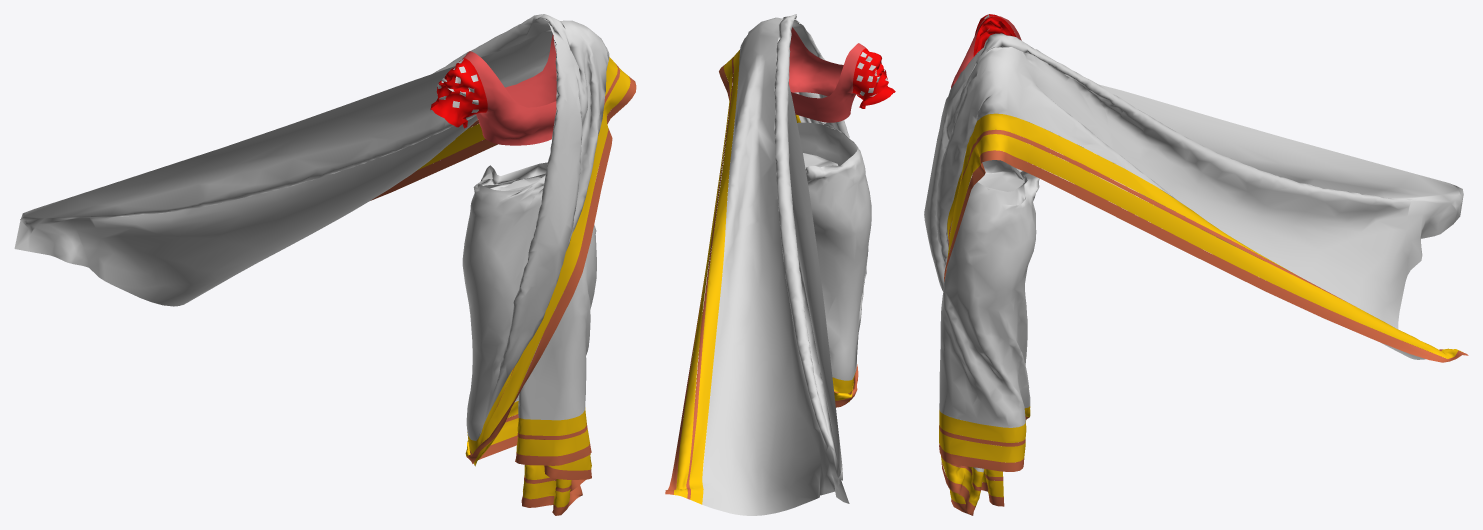
3 views of the same model, side by side, from view 1: azimuth 30°, elevation 25°; view 2: azimuth 150°, elevation 25°; view 3: azimuth 270°, elevation 25° (orthographic). The views are drawn at different scales.
Visible parts, largest first — view 1: test 3; view 2: test 3; view 3: test 3.
Part boxes in pixels (left/top/right/bottom): test 3: left=14, top=14, right=636, bottom=515; test 3: left=665, top=14, right=895, bottom=515; test 3: left=924, top=14, right=1468, bottom=515.
Bounding box in the file's own units: 1.74 × 2.07 × 2.14.
